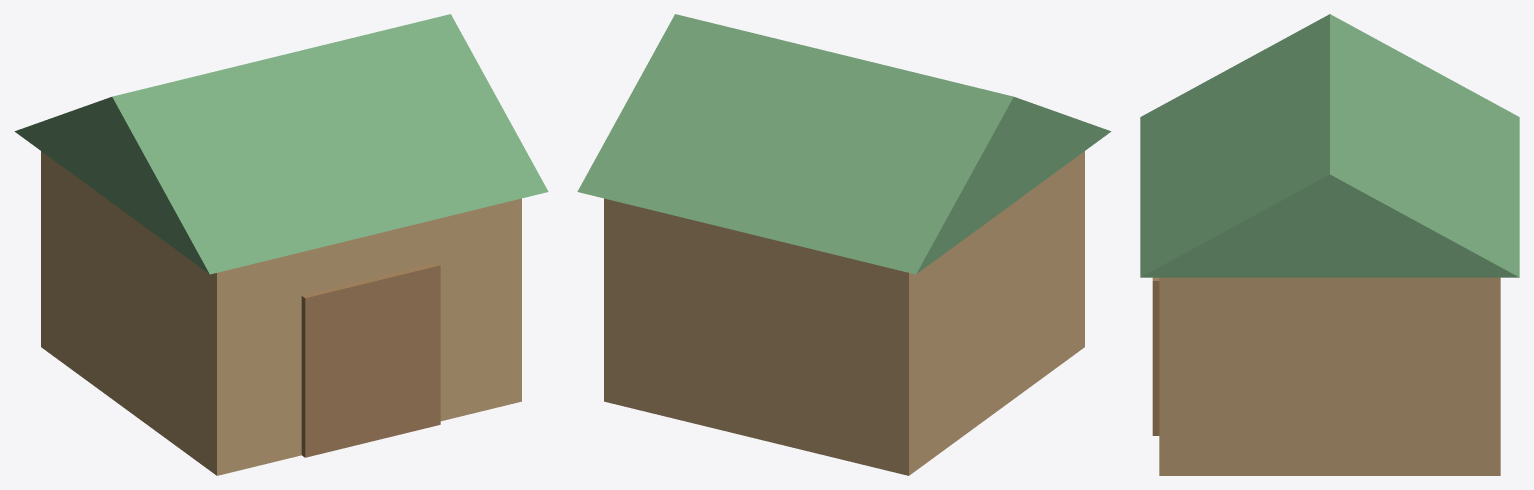
File: storehouse.glb
3 renders of one model, left to right at view 1: azimuth 30°, elevation 25°; view 2: azimuth 150°, elevation 25°; view 3: azimuth 270°, elevation 25°, orthographic. The views are drawn at different scales.
Parts seen in each view (by area): view 1: roof, walls, door; view 2: walls, roof; view 3: roof, walls, door.
Boxes of the visible parts, left/top/right/bottom form: roof: left=14, top=14, right=548, bottom=274; walls: left=41, top=151, right=521, bottom=475; door: left=301, top=263, right=440, bottom=457; walls: left=604, top=151, right=1084, bottom=475; roof: left=577, top=14, right=1111, bottom=274; roof: left=1140, top=14, right=1519, bottom=277; walls: left=1159, top=277, right=1500, bottom=475; door: left=1152, top=277, right=1159, bottom=435.
Bounding box in the file's own units: 2 × 1.8 × 2.
